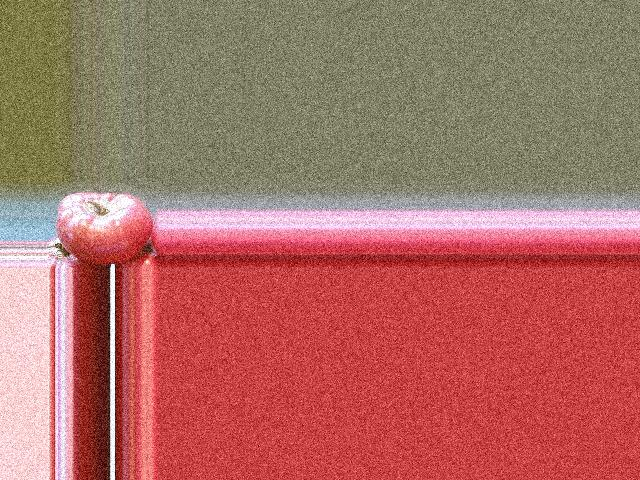tomato: (56, 192, 154, 264)
